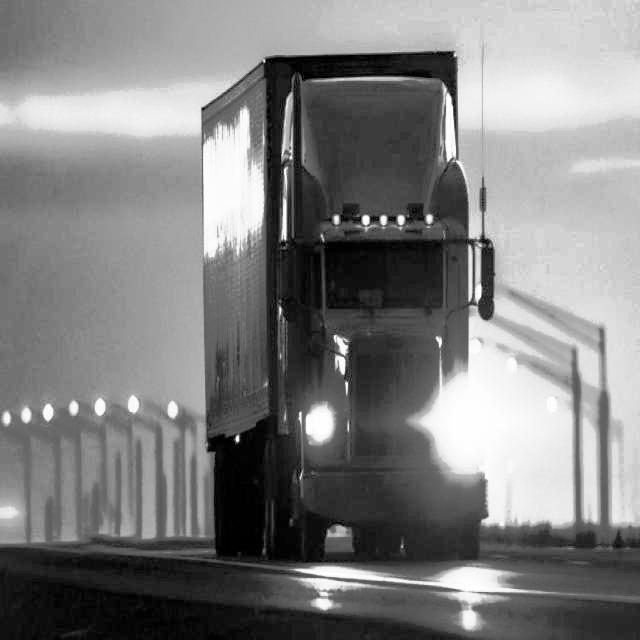Truck: (200, 48, 495, 563)
